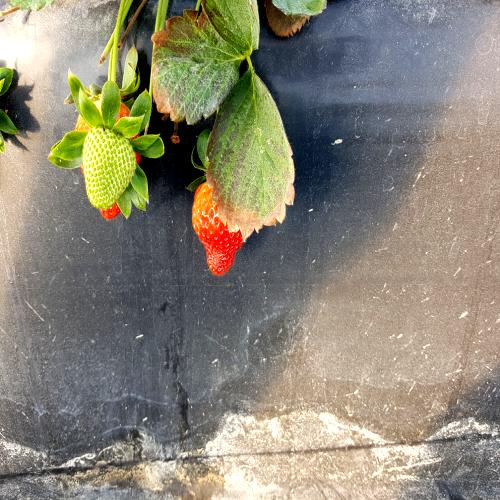ripe: (183, 161, 247, 281)
